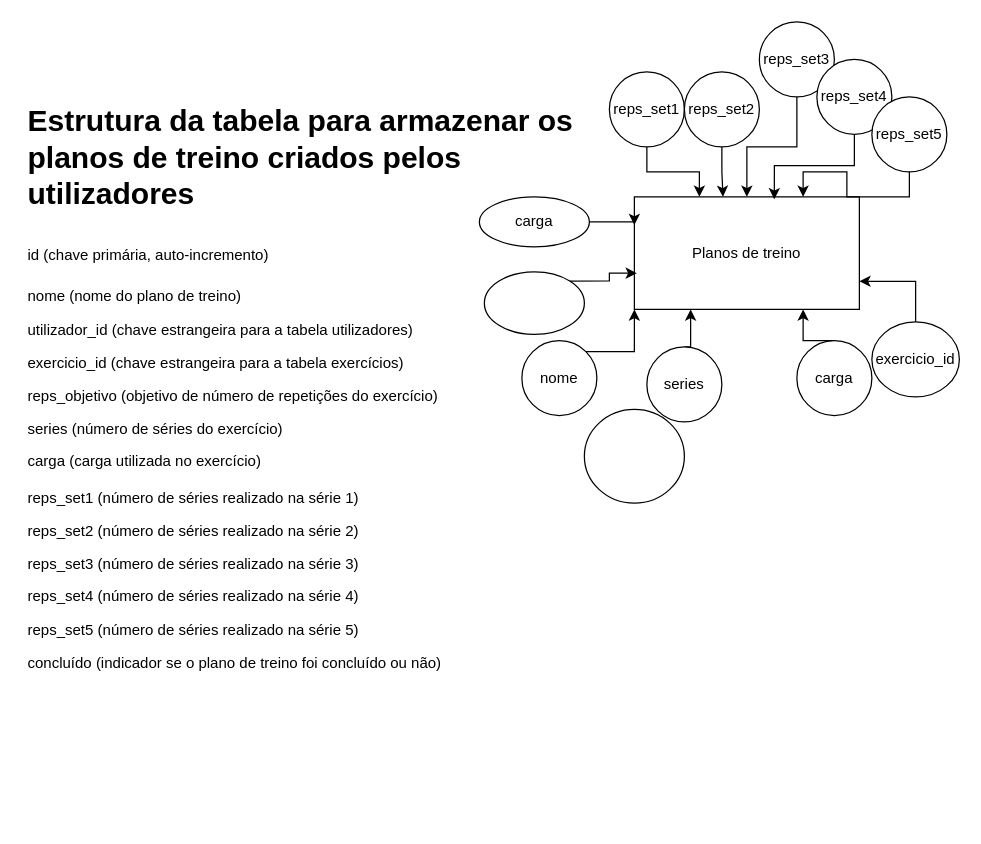
The diagram is 981 pixels wide and 844 high, and some of its shapes have lost their labels. The shapes that lost their labels are listed below. From the top down, each one's box as (x1, y1, x2, y2) in pixels, then its label:
(483, 271, 584, 334): reps_objetivo
(583, 408, 684, 503): utilizador_id
